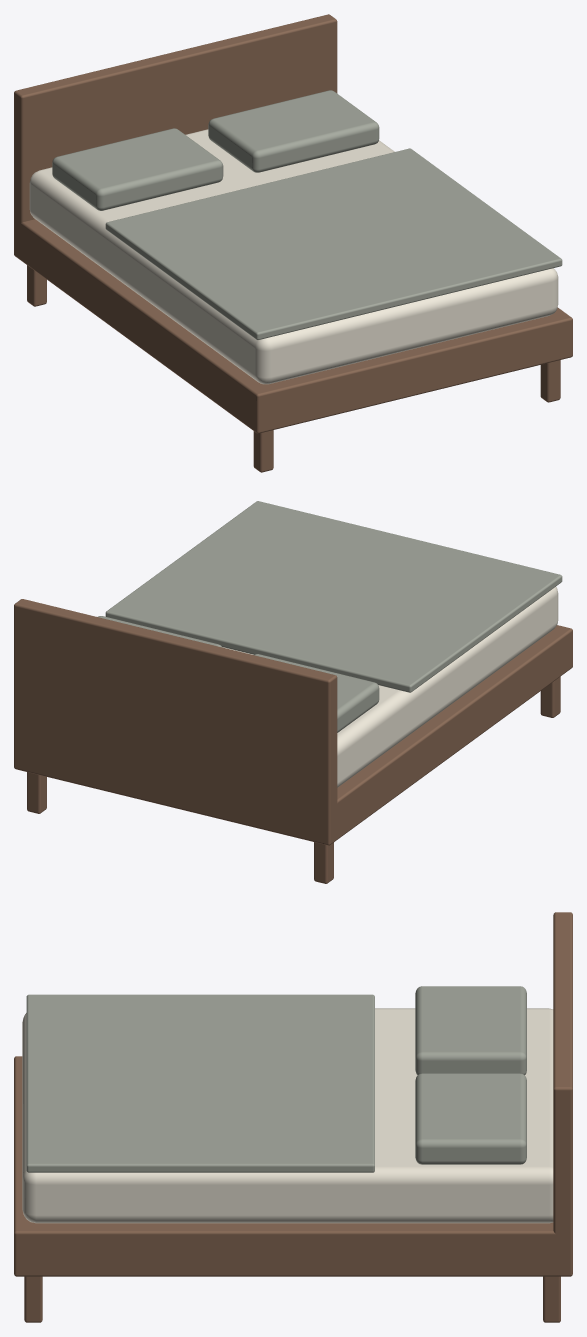
The model's file is paranormal-investigation-house-bed-9a50ec5f__26714.glb.
The picture shows the model from 3 angles, top to bottom: view 1: azimuth 30°, elevation 25°; view 2: azimuth 150°, elevation 25°; view 3: azimuth 270°, elevation 25°; orthographic projection. The views are drawn at different scales.
Visible parts, largest first — view 1: bed; view 2: bed; view 3: bed.
Boxes of the visible parts, left/top/right/bottom form: bed: left=14, top=14, right=572, bottom=472; bed: left=14, top=501, right=572, bottom=883; bed: left=14, top=912, right=572, bottom=1322.
Bounding box in the file's own units: 1.5 × 0.95 × 2.01.
